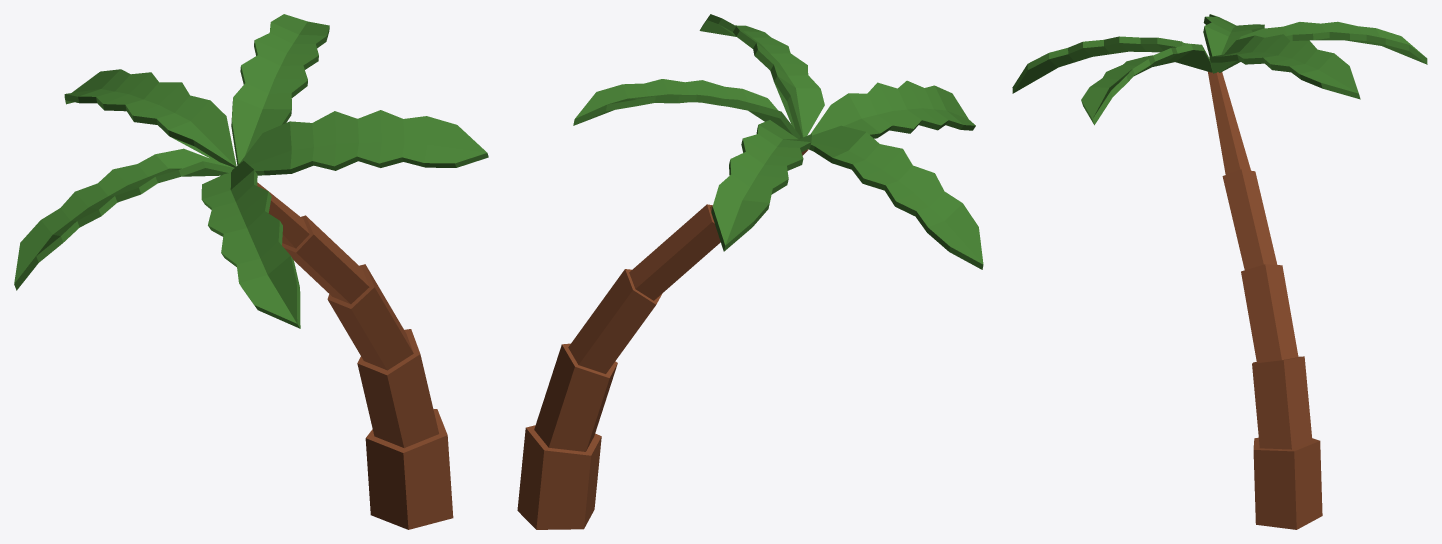
Rendered from palm1.glb.
3 renders of one model, left to right at view 1: azimuth 30°, elevation 25°; view 2: azimuth 150°, elevation 25°; view 3: azimuth 270°, elevation 25°, orthographic. The views are drawn at different scales.
Visible parts, largest first — view 1: пальма1; view 2: пальма1; view 3: пальма1.
Part boxes in pixels (x1,y1,x2,y2): пальма1: [14, 14, 488, 529]; пальма1: [517, 14, 983, 529]; пальма1: [1012, 14, 1427, 529].
Size of the model in its own units: 4.53 by 4.63 by 4.18.
1 material, 1 textured.
